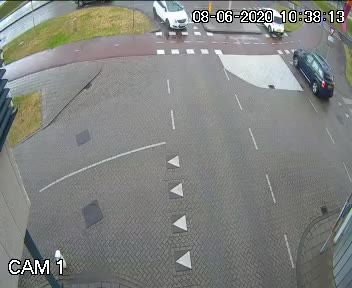car: (286, 45, 337, 105), (149, 0, 196, 38), (253, 5, 289, 43)
